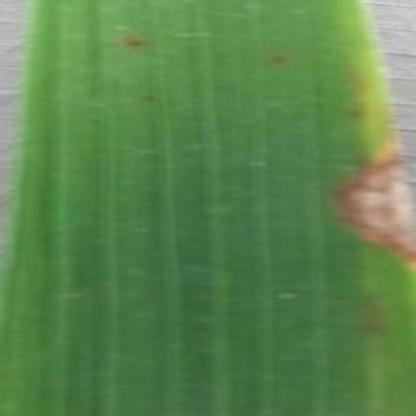Rice blast: (331, 145, 416, 287)
